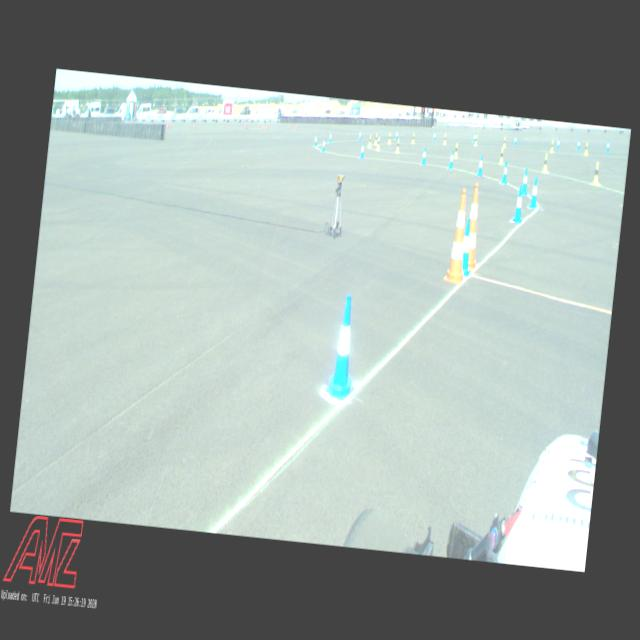blue_cone: (324, 294, 364, 401), (456, 218, 475, 276), (512, 184, 525, 223), (528, 175, 540, 208), (520, 166, 529, 195), (500, 160, 509, 184), (476, 154, 484, 176), (448, 150, 454, 169), (359, 142, 365, 158), (421, 146, 426, 164), (313, 134, 318, 146), (322, 137, 326, 151), (606, 140, 610, 152), (576, 139, 580, 150), (556, 138, 560, 149), (328, 131, 332, 142), (513, 134, 517, 145), (472, 132, 476, 142), (358, 130, 362, 140), (433, 130, 436, 140), (395, 130, 398, 140)
large_orange_cone: (443, 187, 475, 284), (459, 182, 485, 270)
yellow_cone: (592, 160, 600, 186), (541, 152, 549, 172), (498, 146, 504, 164), (394, 138, 400, 152), (454, 142, 458, 158), (410, 132, 416, 142), (473, 134, 478, 146), (376, 136, 380, 150), (442, 133, 447, 144), (368, 133, 372, 146), (584, 142, 588, 155), (550, 140, 554, 153), (388, 132, 392, 144), (374, 133, 378, 144), (502, 136, 506, 147)
